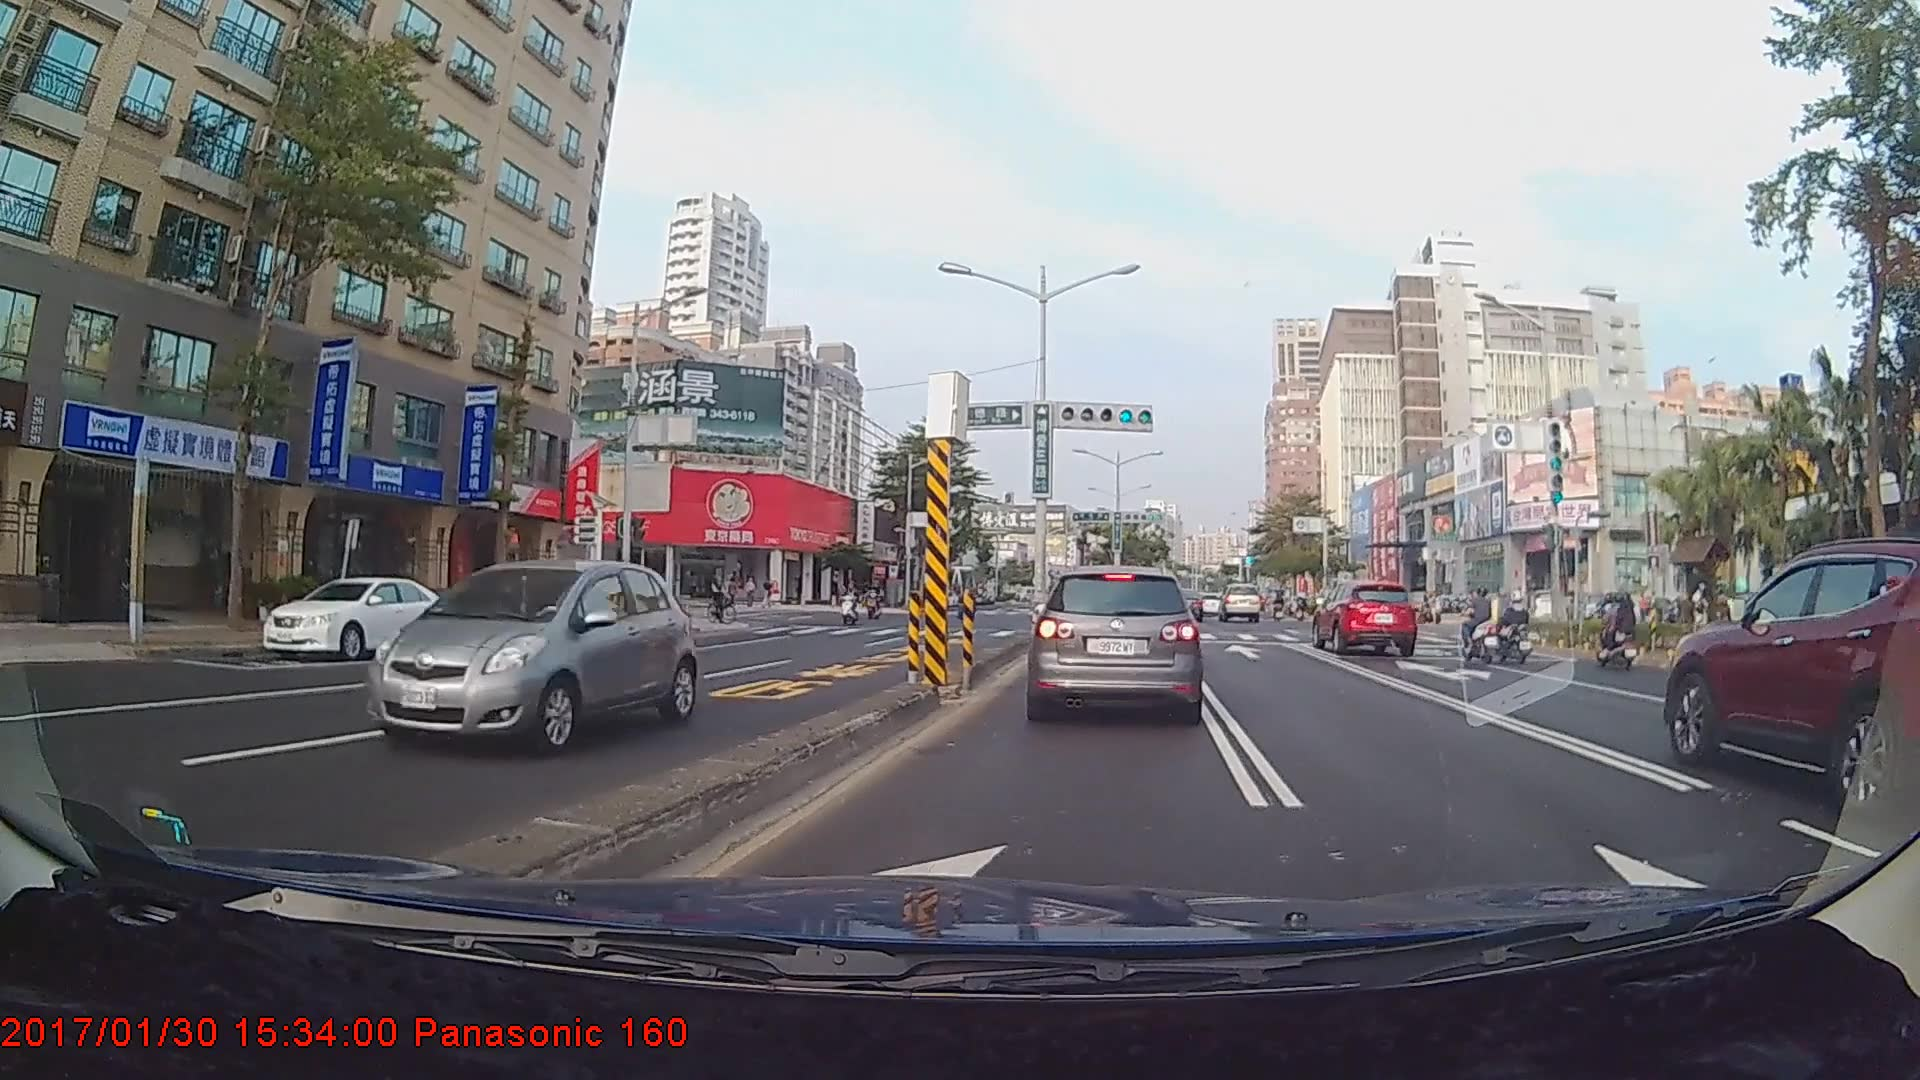rider: (1453, 584, 1507, 665), (1488, 585, 1539, 669), (1591, 590, 1645, 670)
vehicle: (1661, 534, 1917, 822), (363, 557, 698, 756), (1031, 562, 1203, 720), (261, 569, 459, 656), (1309, 577, 1420, 656), (1218, 583, 1261, 623), (1163, 589, 1204, 622)
